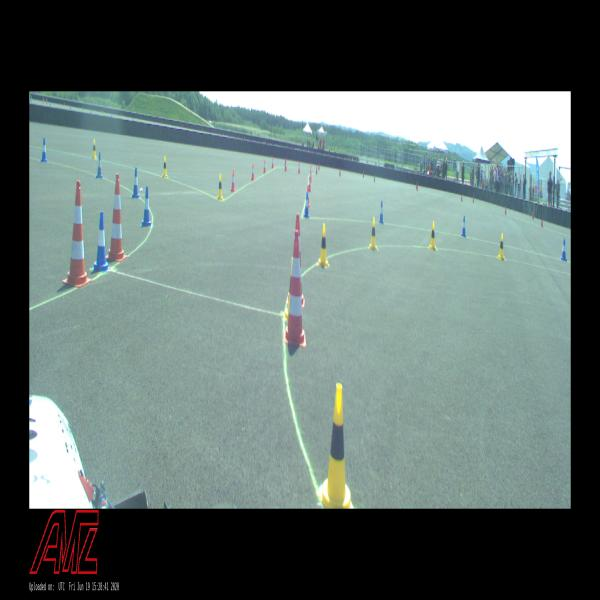blue_cone: (92, 211, 110, 273), (141, 186, 152, 227), (132, 167, 140, 198), (40, 138, 48, 162), (96, 152, 103, 179), (304, 192, 310, 218), (561, 238, 567, 262), (379, 200, 384, 225), (462, 216, 466, 237)
large_orange_cone: (62, 180, 92, 288), (284, 230, 306, 347), (106, 174, 127, 262), (287, 214, 305, 308)
orange_cone: (230, 170, 235, 192), (306, 185, 310, 208), (251, 163, 255, 180), (308, 175, 311, 192), (263, 159, 266, 174), (284, 159, 287, 171), (271, 157, 274, 168), (310, 169, 312, 183), (298, 163, 300, 174)
yellow_cone: (318, 384, 354, 508), (317, 223, 330, 267), (284, 257, 293, 320), (369, 217, 378, 251), (430, 221, 438, 251), (498, 234, 506, 260), (217, 174, 224, 200), (162, 155, 168, 179), (92, 139, 97, 159)
